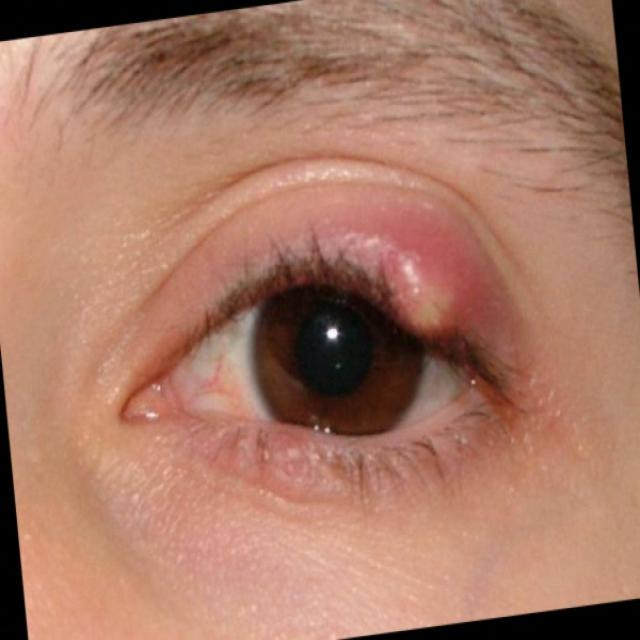Chalazion: (128, 195, 521, 490)
